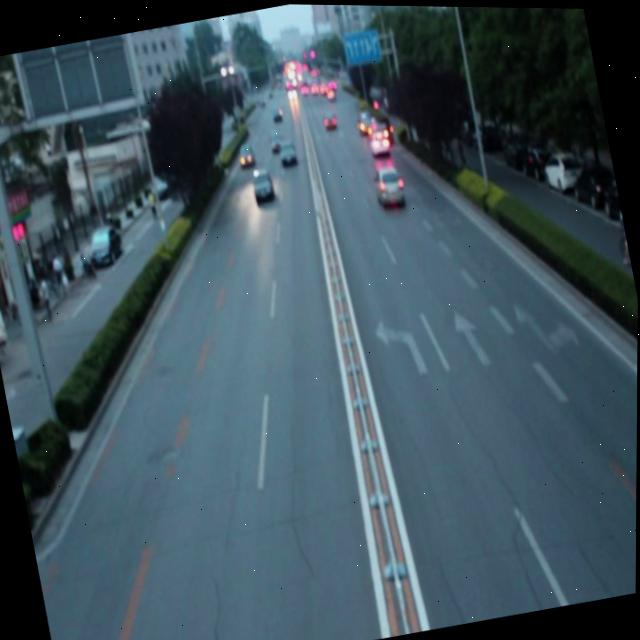car: (371, 161, 407, 207), (248, 163, 277, 205)
